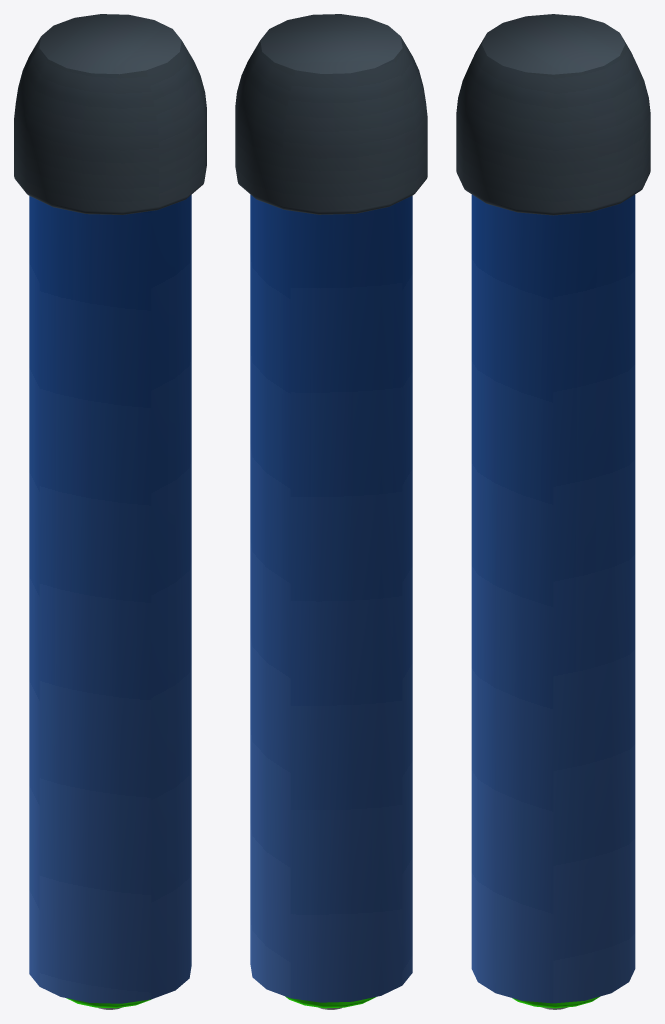
Rendered from paintinggauge.fbx.
3 renders of one model, left to right at view 1: azimuth 30°, elevation 25°; view 2: azimuth 150°, elevation 25°; view 3: azimuth 270°, elevation 25°, orthographic.
Parts seen in each view (by area): view 1: Cylinder; view 2: Cylinder, Cylinder.001; view 3: Cylinder.
Part boxes in pixels (x1,y1,x2,y2): Cylinder: (14,14,206,1003); Cylinder: (235,14,427,1002); Cylinder.001: (285,996,375,1009); Cylinder: (456,14,650,1003).
Size of the model in its own units: 200 by 1090 by 200.
